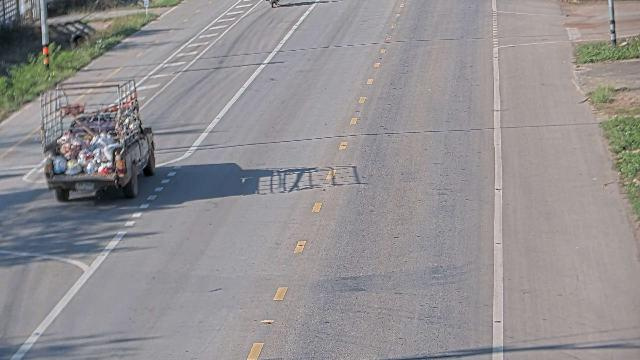pickup-truck: (39, 78, 156, 202)
